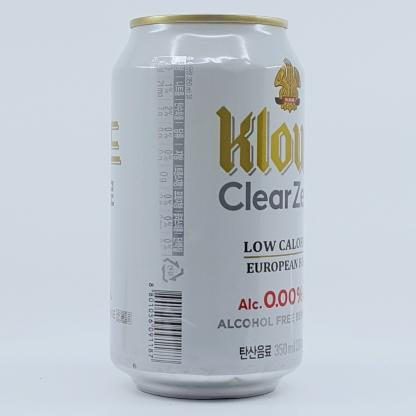--------------350ML: (109, 13, 304, 398)
